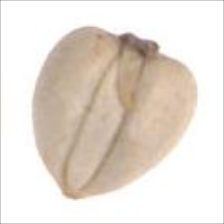L5: (63, 53, 149, 191), (109, 30, 168, 61), (52, 177, 97, 205)
L6: (30, 25, 200, 199)
